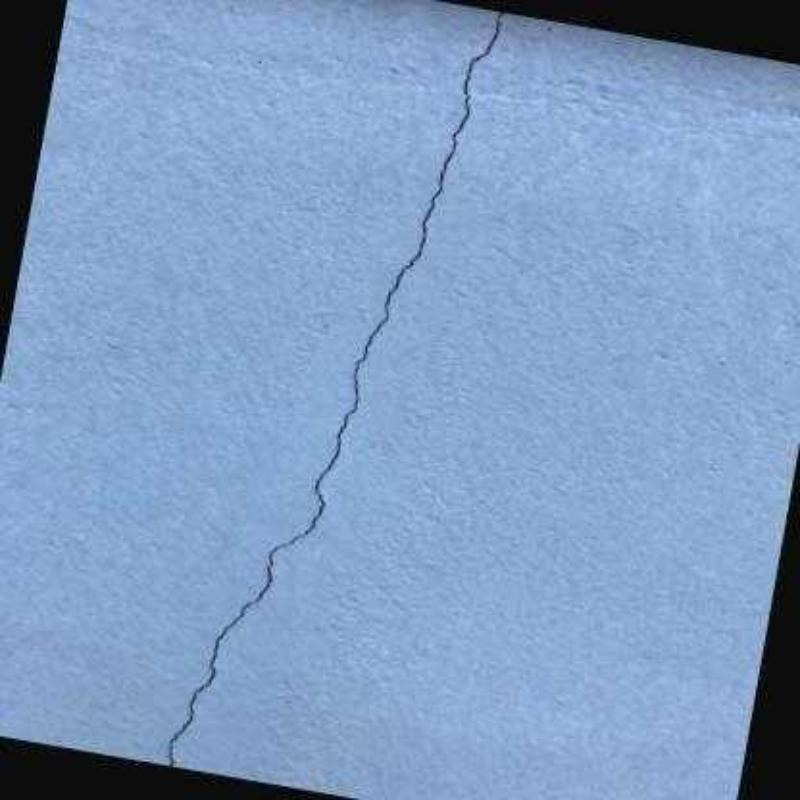pothole: (164, 11, 505, 766)
